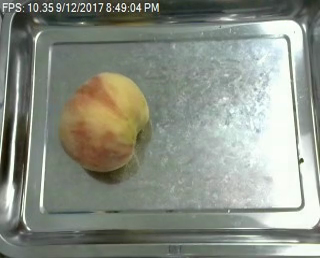Peach: (58, 70, 150, 171)
